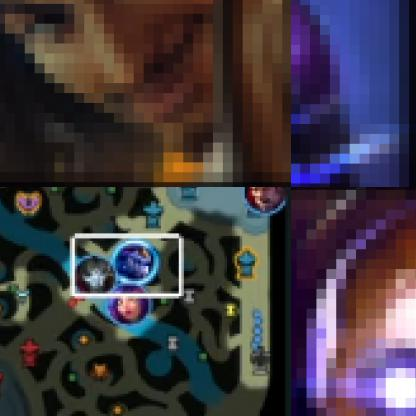Akshan: (0, 0, 290, 186)
Aurelion Sol: (115, 244, 159, 286)
Blitzcrank: (291, 187, 415, 415)
Darius: (242, 187, 290, 215)
Jax: (291, 0, 415, 186)
Jhin: (74, 256, 117, 298)
Neeko: (106, 284, 152, 325)
